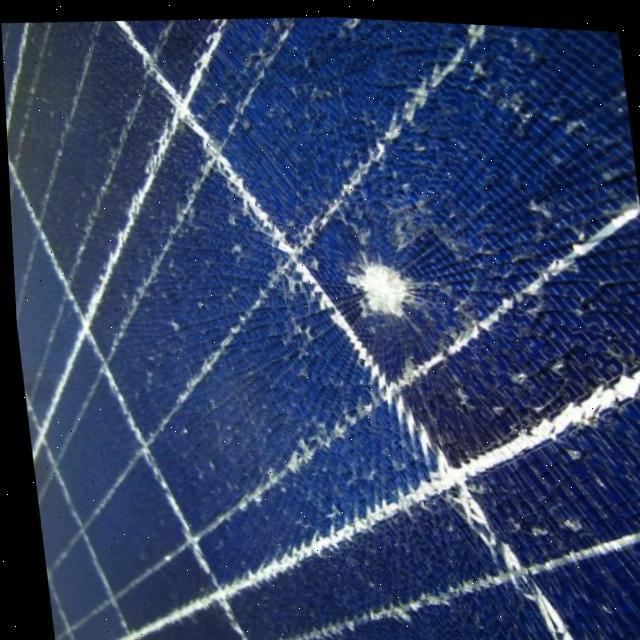Anomaly Solar Panel: (1, 13, 640, 640)
Structural Damage: (235, 122, 502, 448)
